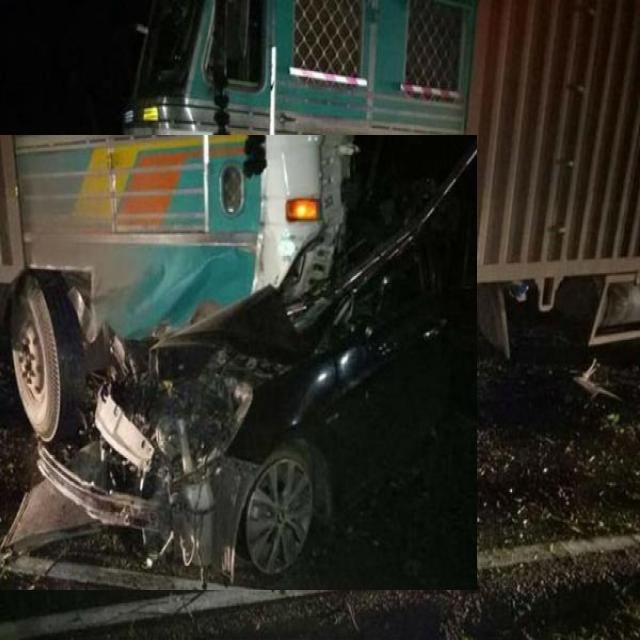accident: (0, 135, 477, 590)
truck: (125, 1, 640, 444)
